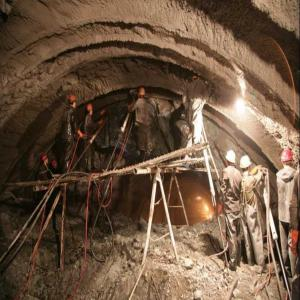red: (282, 148, 294, 169), (42, 154, 49, 166), (52, 159, 58, 169)
white: (241, 155, 251, 174), (227, 150, 237, 169)
yellow: (69, 94, 77, 109), (86, 103, 94, 116), (139, 88, 146, 101)
